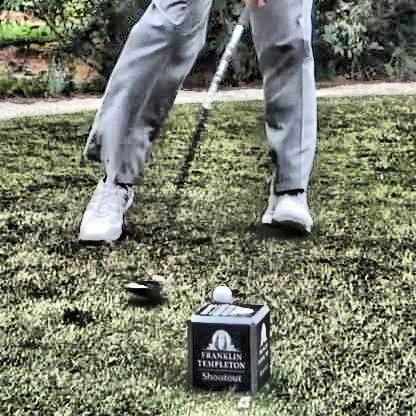golfball: (207, 280, 233, 301)
